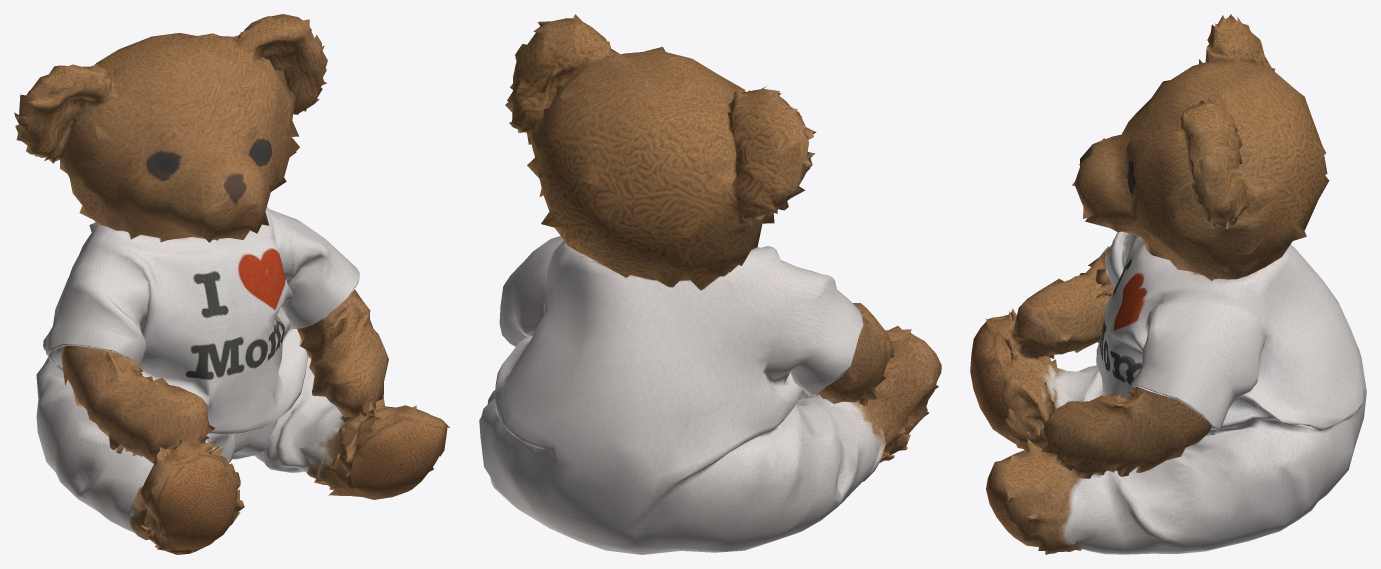
The model's file is Meshy_AI_Mom’s_Little_Bear_1020124921_texture.glb.
The picture shows the model from 3 angles, left to right: view 1: azimuth 30°, elevation 25°; view 2: azimuth 150°, elevation 25°; view 3: azimuth 270°, elevation 25°; orthographic projection. The views are drawn at different scales.
Size of the model in its own units: 0.7373 by 0.9453 by 0.7856.
Materials: 1 (1 with a texture image).
